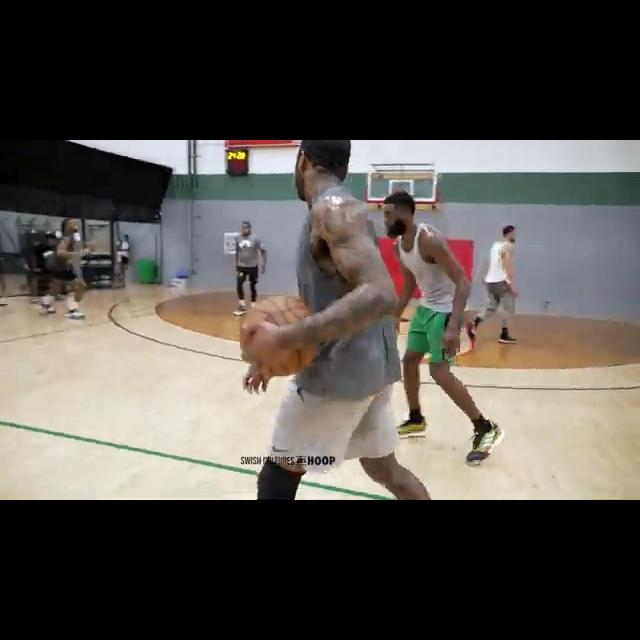basketball: (238, 294, 316, 375)
